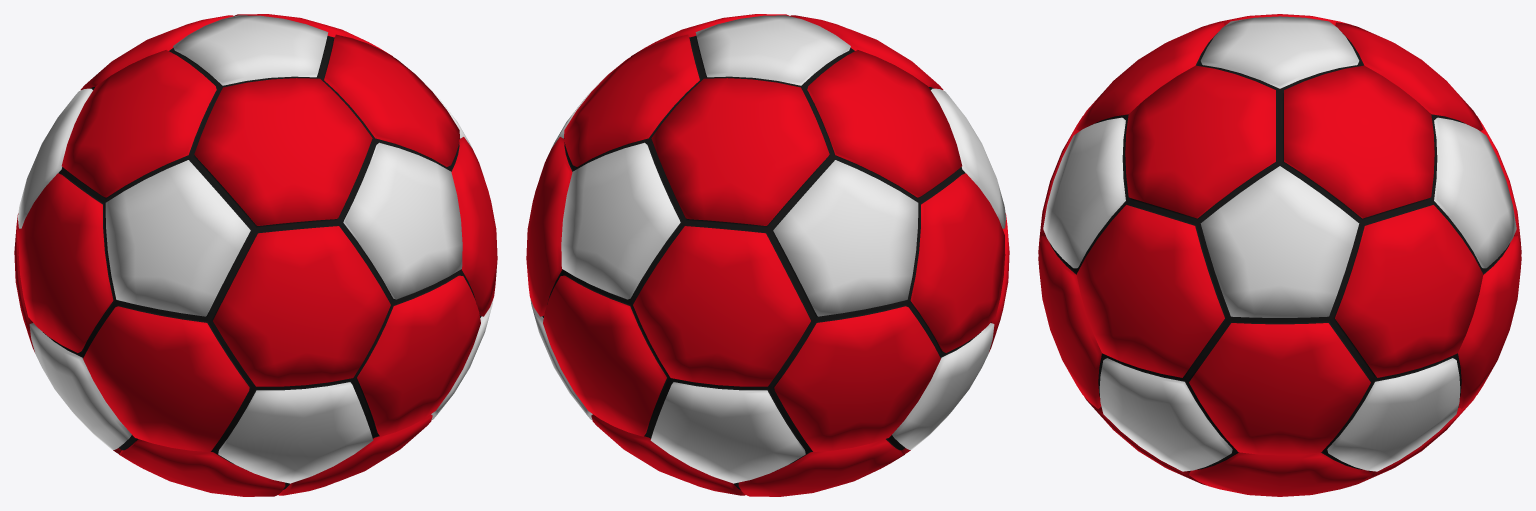
Rendered from ball.fbx.
3 renders of one model, left to right at view 1: azimuth 30°, elevation 25°; view 2: azimuth 150°, elevation 25°; view 3: azimuth 270°, elevation 25°, orthographic.
Visible parts, largest first — view 1: Icosphere; view 2: Icosphere; view 3: Icosphere.
Boxes of the visible parts, left/top/right/bottom form: Icosphere: left=14, top=14, right=497, bottom=496; Icosphere: left=526, top=14, right=1009, bottom=496; Icosphere: left=1038, top=14, right=1521, bottom=496.
Size of the model in its own units: 169 by 169 by 169.
